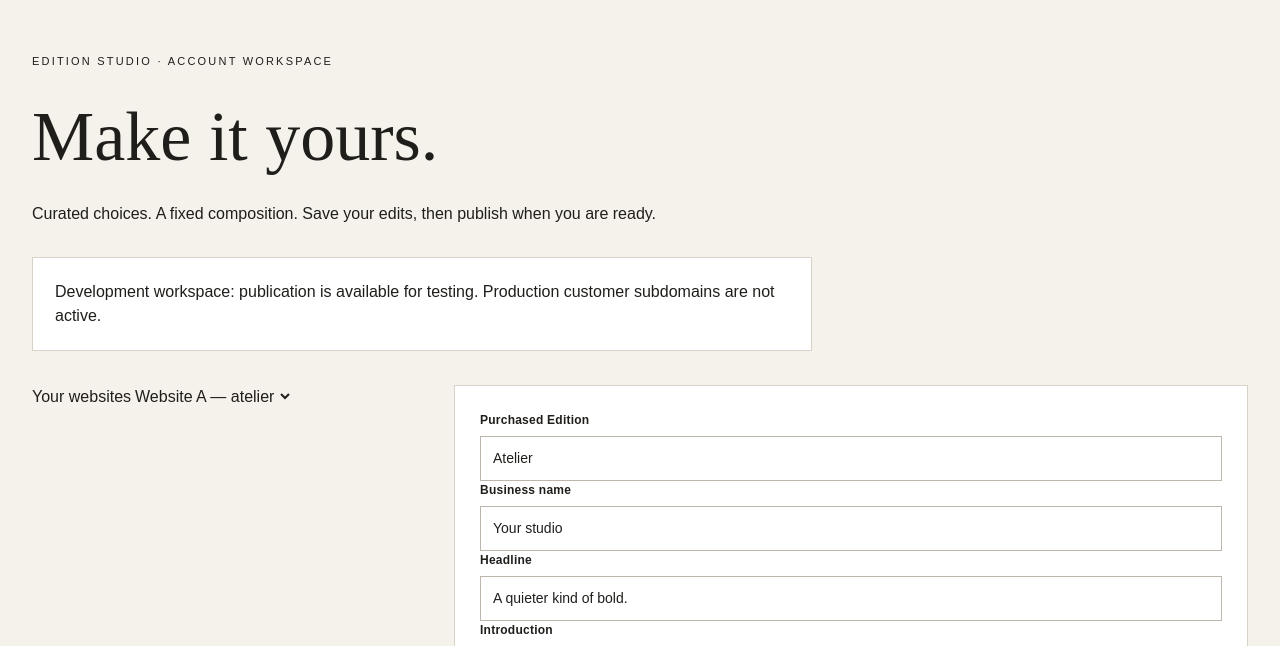
Test: Editor request generation isolation › rejects obsolete responses after A to B to A switching
The image size is (1280, 646).
Select "Website B — atelier" in the dropdown labelled "Your websites": {"x": 212, "y": 396} [131, 387, 293, 406]
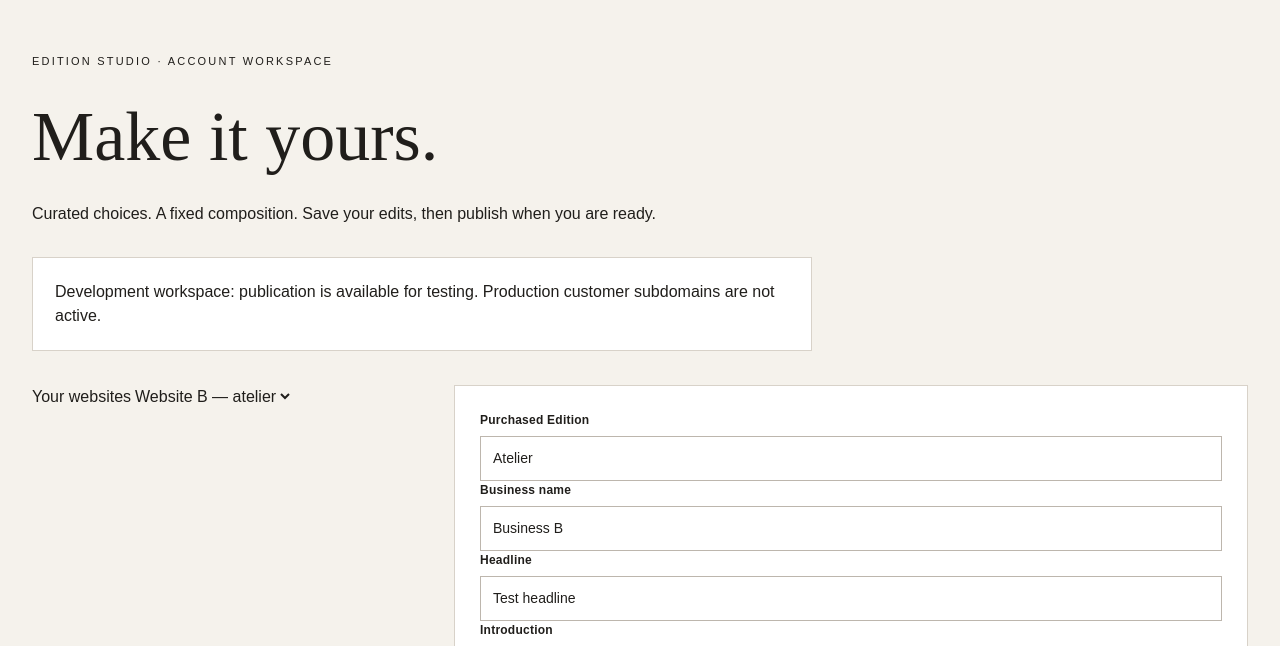
Result: the field labelled "Business name" holds "Business B" at [480, 506, 1222, 551]
Select "Website A — atelier" in the dropdown labelled "Your websites": {"x": 212, "y": 396} [131, 387, 293, 406]
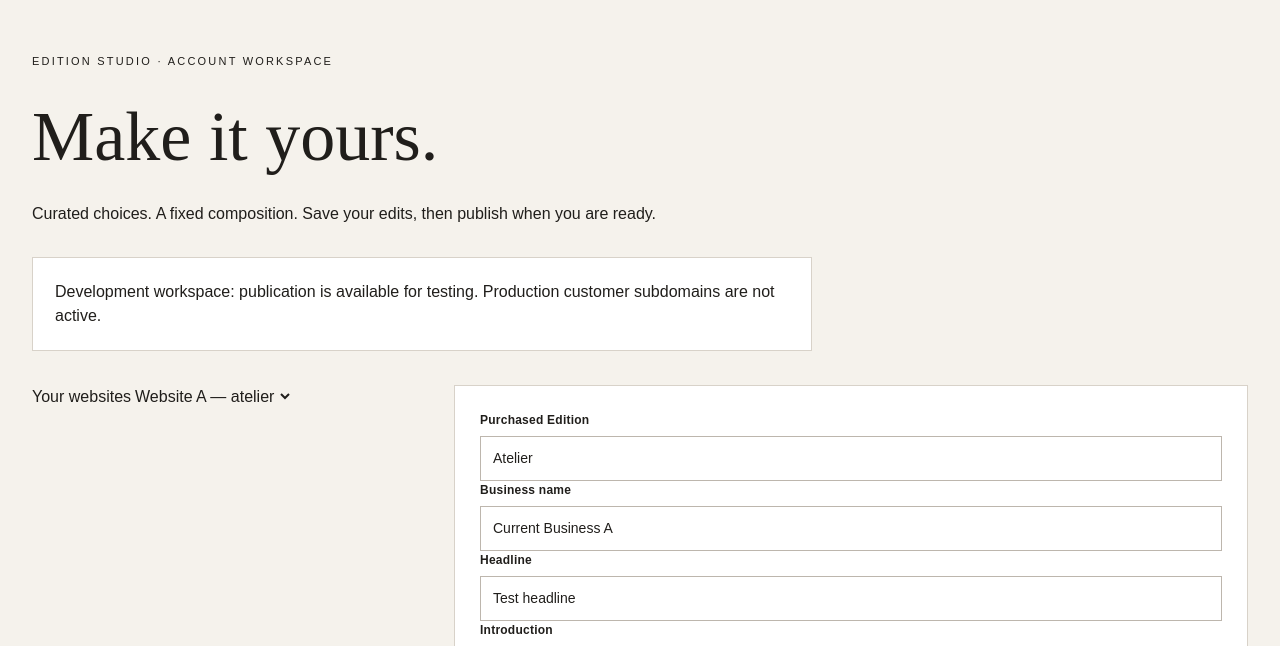
Result: the field labelled "Business name" holds "Current Business A" at [480, 506, 1222, 551]
